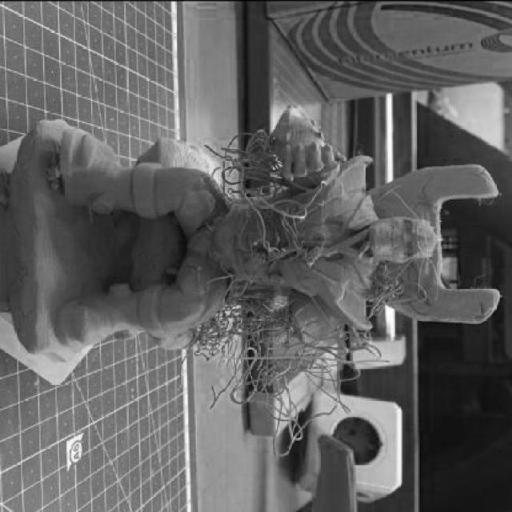spaghetti_and_stringing: (204, 122, 443, 304), (192, 300, 394, 458)
